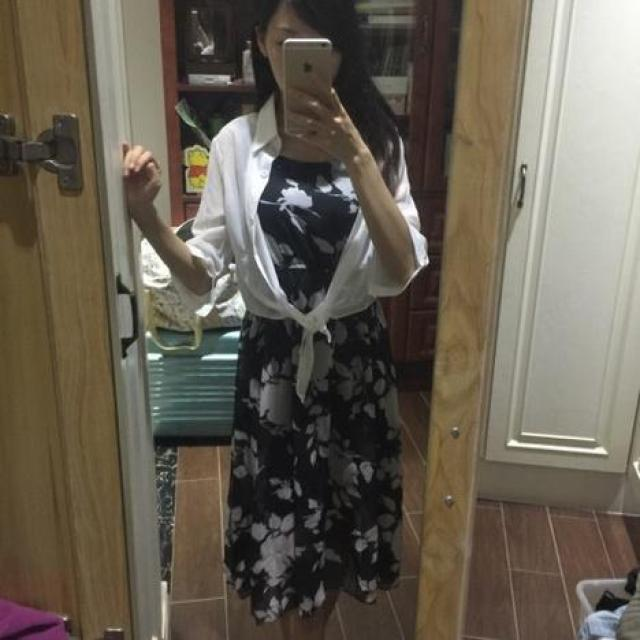long sleeve outwear: (168, 92, 291, 317)
vest dress: (220, 114, 399, 604)
